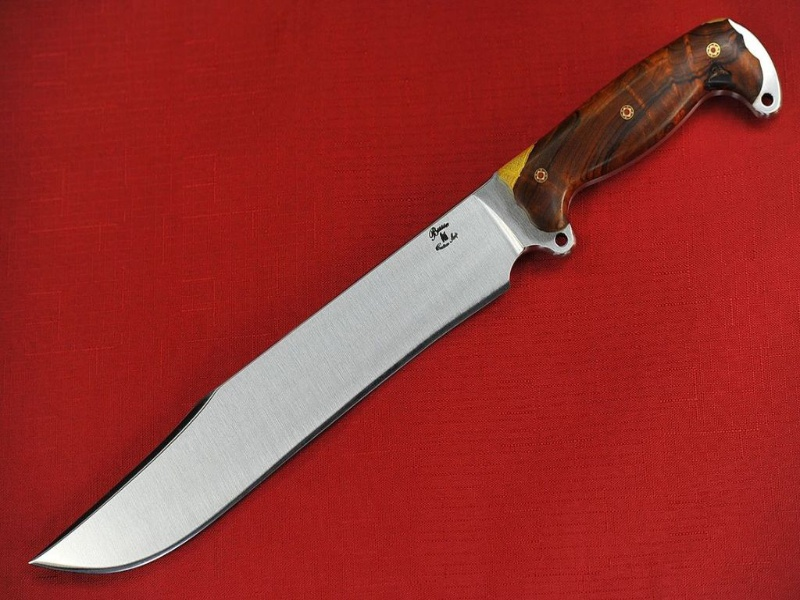knife: (20, 15, 784, 578)
